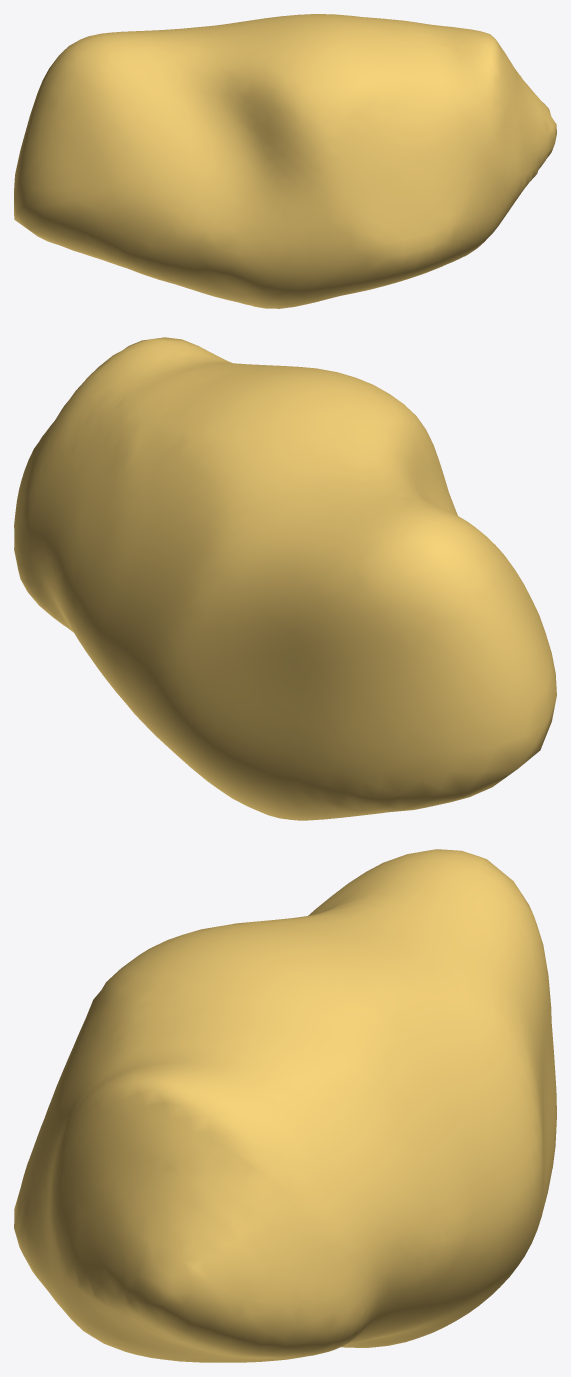
The model's file is potato.fbx.
3 views of the same model, one above another, from view 1: azimuth 30°, elevation 25°; view 2: azimuth 150°, elevation 25°; view 3: azimuth 270°, elevation 25° (orthographic). The views are drawn at different scales.
Visible parts, largest first — view 1: potato; view 2: potato; view 3: potato.
Boxes of the visible parts, bbox=[...] form: potato: bbox=[14, 14, 556, 308]; potato: bbox=[14, 337, 556, 820]; potato: bbox=[14, 849, 556, 1362].
Size of the model in its own units: 272 by 157 by 183.
